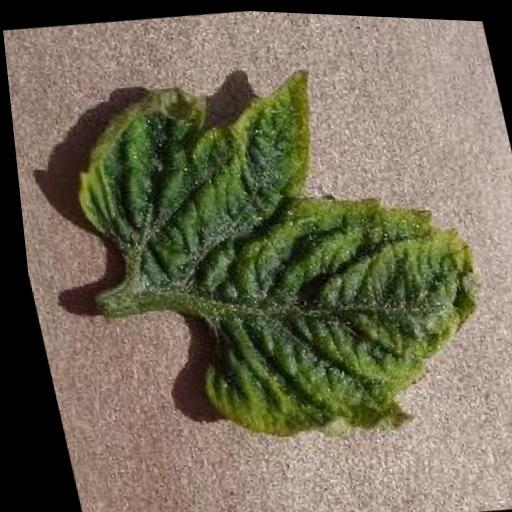Yellow Leaf Curl Virus: (42, 39, 508, 467)
